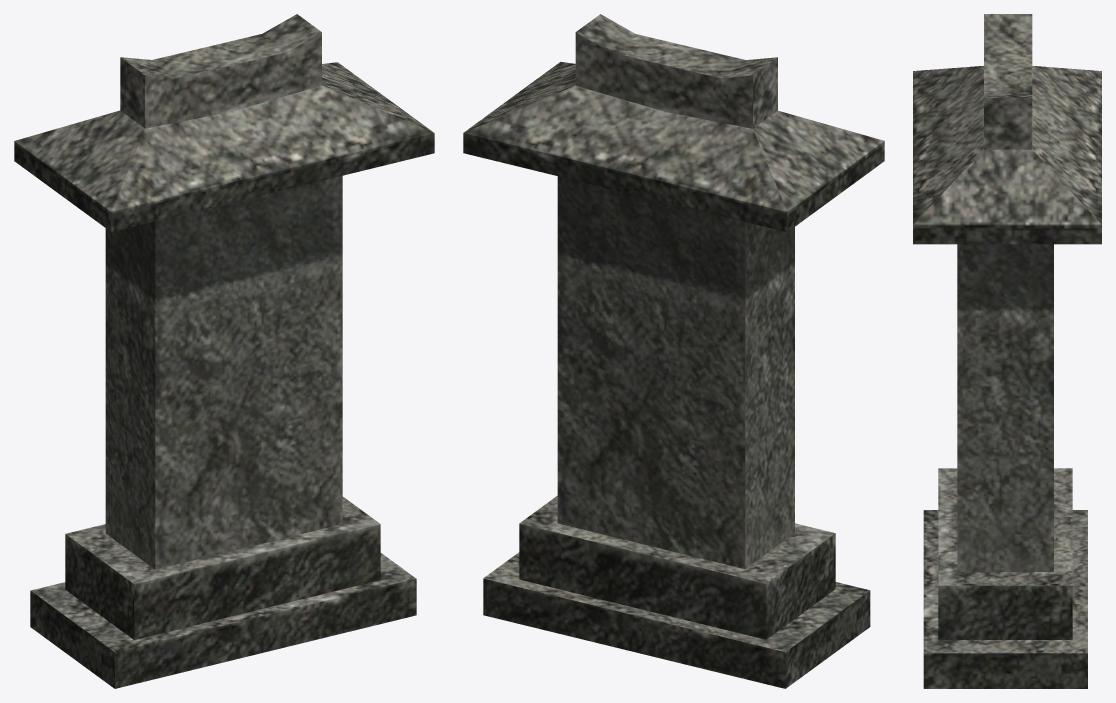
The picture shows the model from 3 angles, left to right: view 1: azimuth 30°, elevation 25°; view 2: azimuth 150°, elevation 25°; view 3: azimuth 270°, elevation 25°; orthographic projection. The views are drawn at different scales.
Parts seen in each view (by area): view 1: ob-12-09; view 2: ob-12-09; view 3: ob-12-09.
Part boxes in pixels (x1,y1,x2,y2): ob-12-09: [14, 14, 434, 688]; ob-12-09: [463, 14, 884, 688]; ob-12-09: [913, 14, 1101, 688].
Size of the model in its own units: 2.95 by 5.02 by 1.53.
